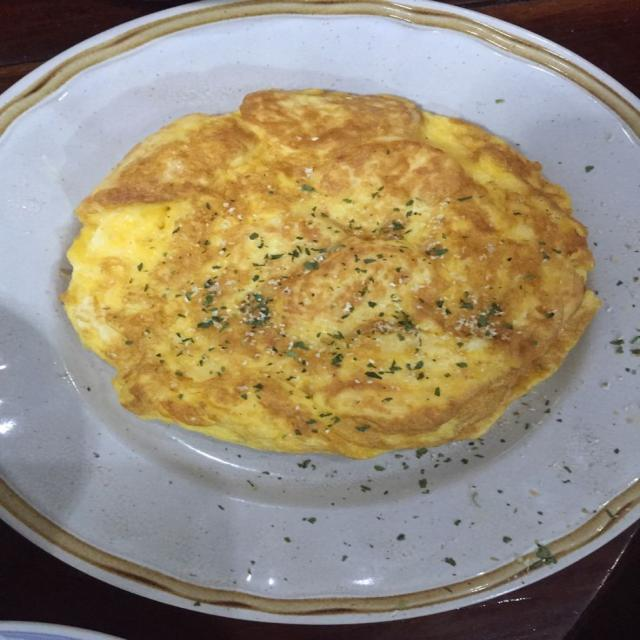omelette: (64, 91, 599, 457)
